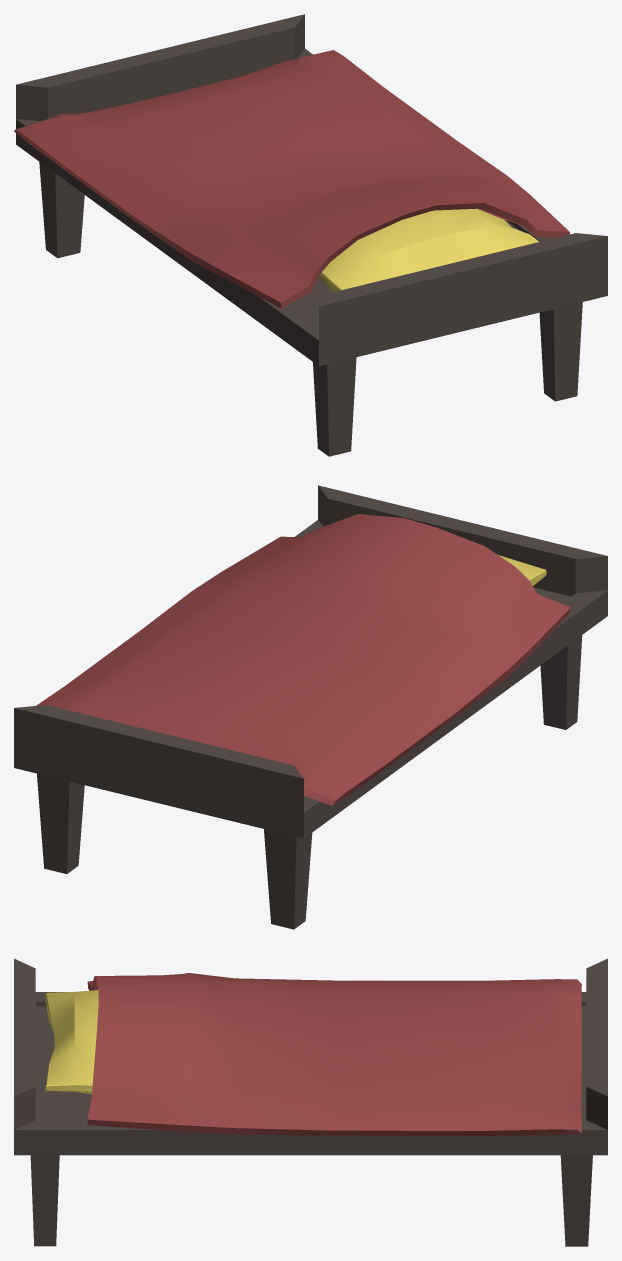
The model's file is Sem_Bed_Color.fbx.
The picture shows the model from 3 angles, top to bottom: view 1: azimuth 30°, elevation 25°; view 2: azimuth 150°, elevation 25°; view 3: azimuth 270°, elevation 25°; orthographic projection. The views are drawn at different scales.
Parts seen in each view (by area): view 1: nCloth3; view 2: nCloth3; view 3: nCloth3.
Boxes of the visible parts, x1,y1,x2,y2 form: nCloth3: (14, 14, 607, 456); nCloth3: (14, 485, 607, 929); nCloth3: (14, 958, 607, 1246).
Bounding box in the file's own units: 11.01 × 6.38 × 18.14.
